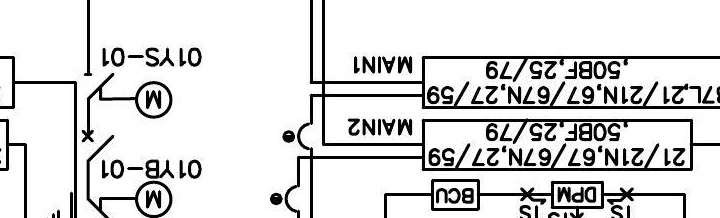115_1way_ds_w_motor: (83, 72, 173, 119)
115_breaker: (81, 130, 115, 162)
BCU: (430, 178, 481, 212)
DPM: (551, 180, 605, 210)
